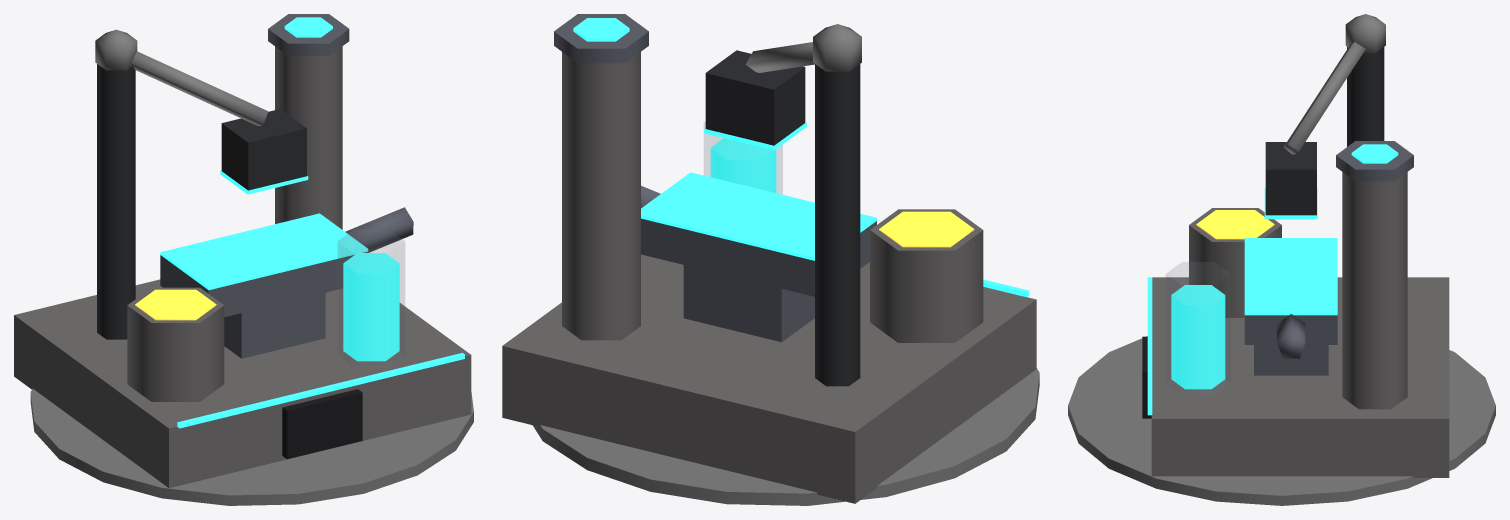
File: Forge_Anvil.glb
The picture shows the model from 3 angles, left to right: view 1: azimuth 30°, elevation 25°; view 2: azimuth 150°, elevation 25°; view 3: azimuth 270°, elevation 25°; orthographic projection. The views are drawn at different scales.
Visible parts, largest first — view 1: Forge_Anvil; view 2: Forge_Anvil; view 3: Forge_Anvil.
Boxes of the visible parts, x1=… form: Forge_Anvil: x1=14, y1=14, x2=473, y2=505; Forge_Anvil: x1=502, y1=14, x2=1039, y2=505; Forge_Anvil: x1=1068, y1=14, x2=1495, y2=505.
Bounding box in the file's own units: 4.6 × 4.25 × 4.6.
